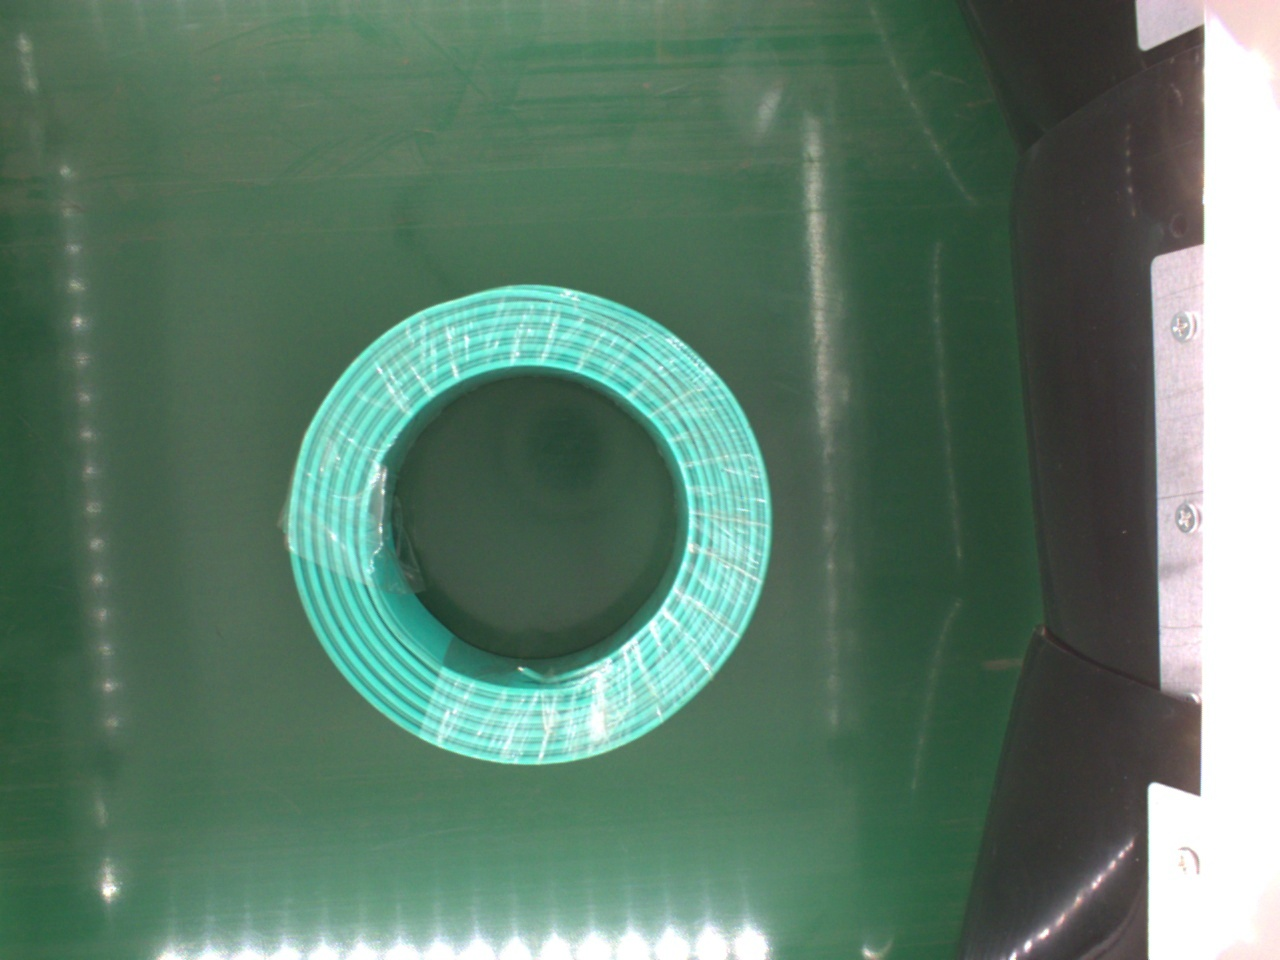green: (282, 283, 774, 768)
